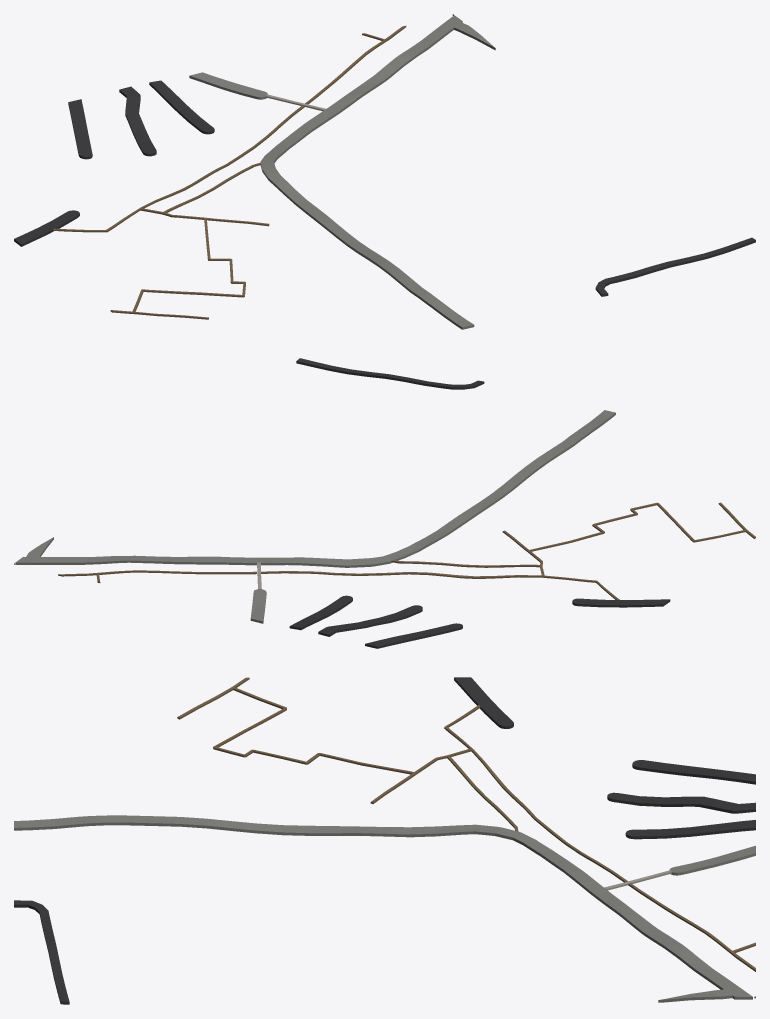
The picture shows the model from 3 angles, top to bottom: view 1: azimuth 30°, elevation 25°; view 2: azimuth 150°, elevation 25°; view 3: azimuth 270°, elevation 25°; orthographic projection. The views are drawn at different scales.
Size of the model in its own units: 293 by 7.25 by 291.
